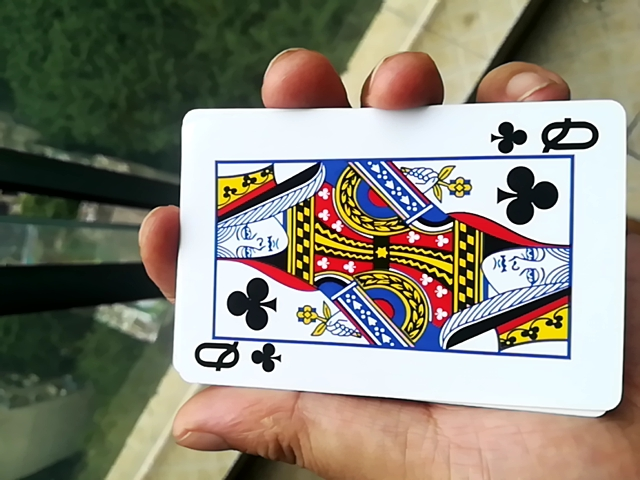mh q: (156, 101, 623, 414)
